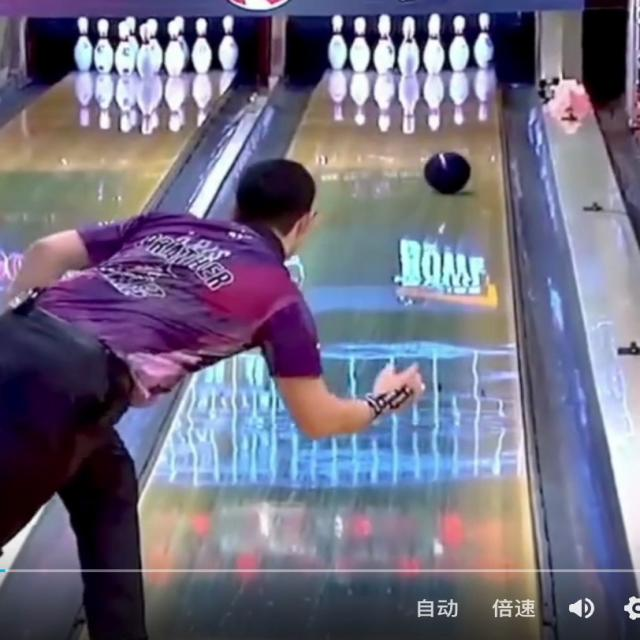alley: (141, 70, 538, 639)
balls: (425, 152, 471, 195)
bottle: (328, 15, 420, 77), (422, 14, 443, 74), (448, 15, 470, 71), (472, 13, 493, 69)
